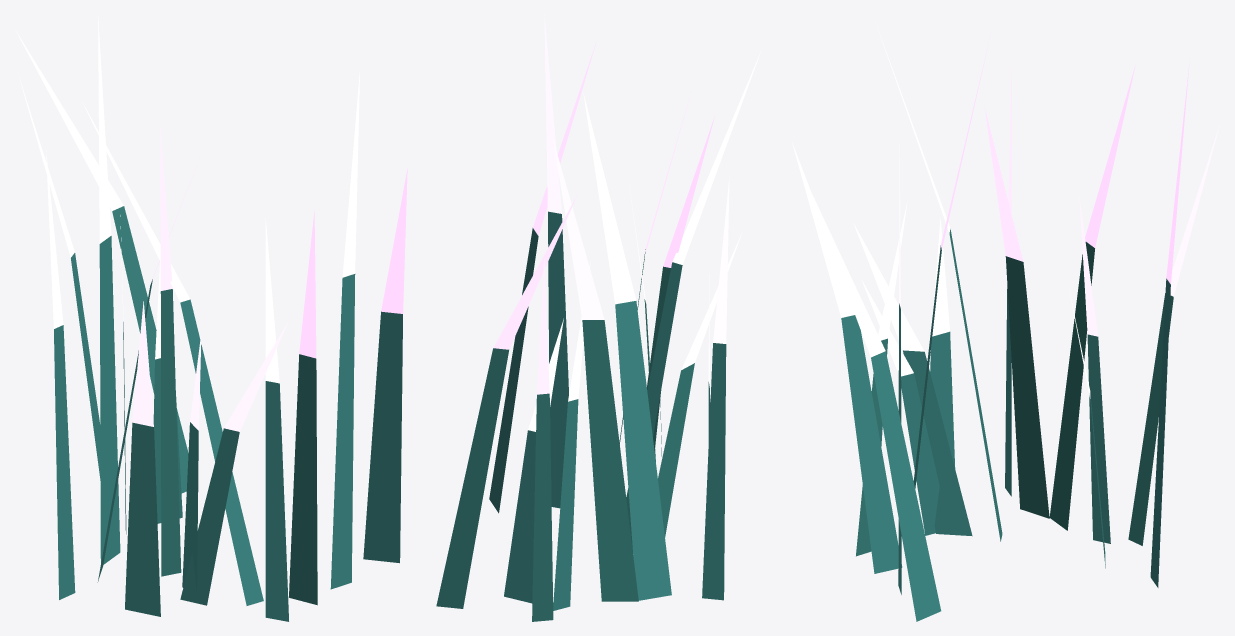
The model's file is grass_tall_c.glb.
3 views of the same model, side by side, from view 1: azimuth 30°, elevation 25°; view 2: azimuth 150°, elevation 25°; view 3: azimuth 270°, elevation 25° (orthographic). The views are drawn at different scales.
Parts seen in each view (by area): view 1: grass_tall_c; view 2: grass_tall_c; view 3: grass_tall_c.
Boxes of the visible parts, x1,y1,x2,y2 form: grass_tall_c: (15,15,407,621); grass_tall_c: (436,14,760,621); grass_tall_c: (792,26,1219,621).
Bounding box in the file's own units: 0.3318 × 0.5451 × 0.4347.
